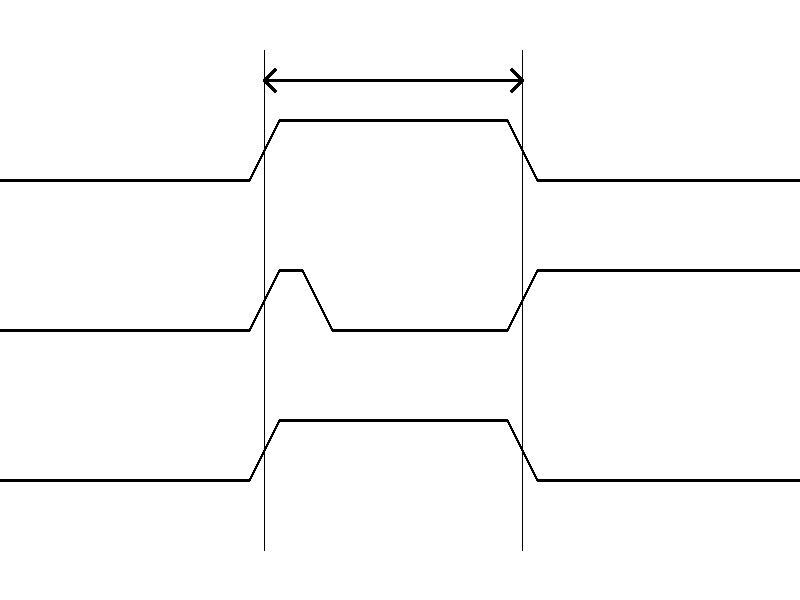double_arrow: (264, 65, 522, 95)
